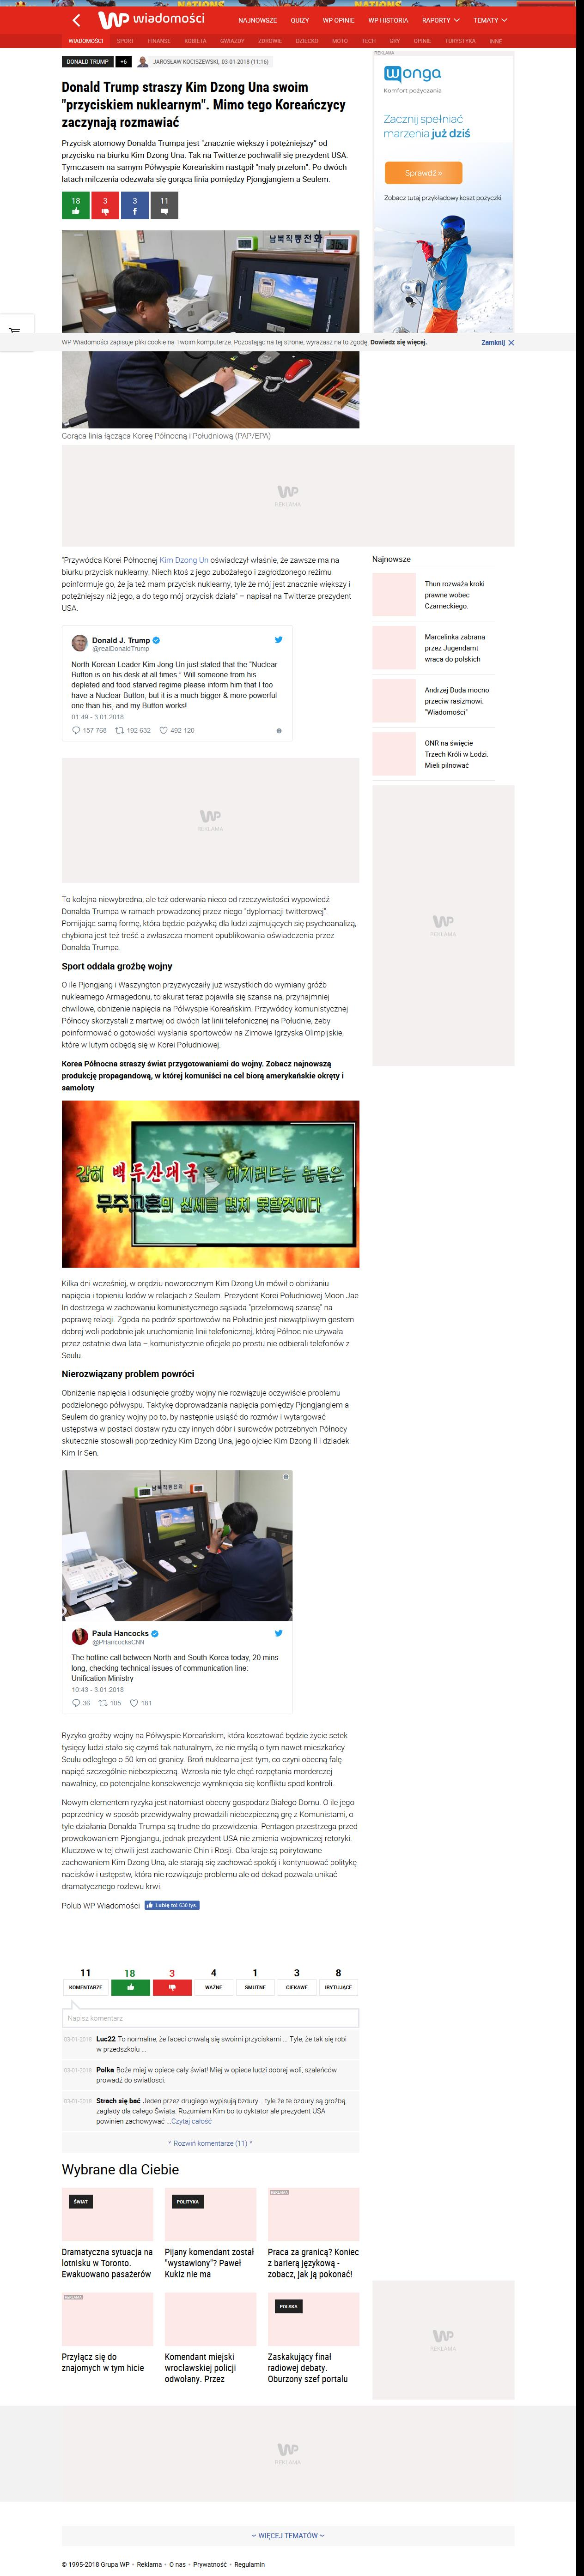title: (61, 80, 347, 130)
